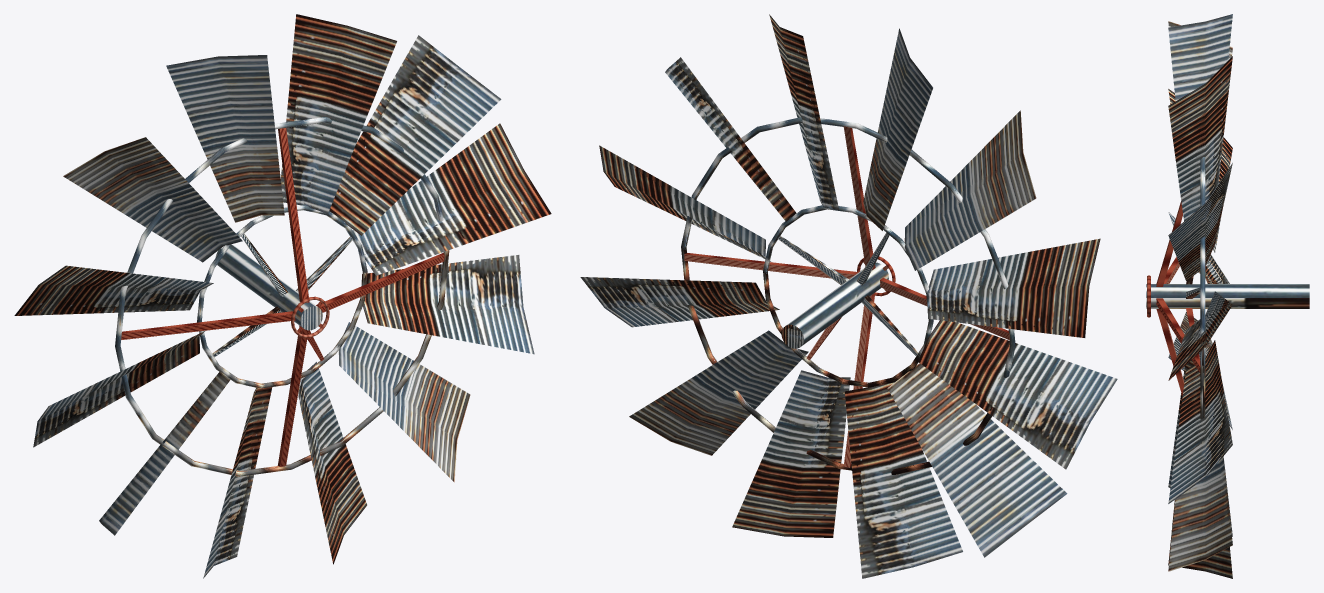
The model's file is WindmillHead.fbx.
The picture shows the model from 3 angles, left to right: view 1: azimuth 30°, elevation 25°; view 2: azimuth 150°, elevation 25°; view 3: azimuth 270°, elevation 25°; orthographic projection. The views are drawn at different scales.
Visible parts, largest first — view 1: pTorus5; view 2: pTorus5; view 3: pTorus5.
Boxes of the visible parts, bbox=[...] form: pTorus5: bbox=[14, 14, 551, 578]; pTorus5: bbox=[580, 14, 1117, 578]; pTorus5: bbox=[1146, 14, 1309, 578].
Bounding box in the file's own units: 512 × 512 × 149.
Materials: 2 (2 with a texture image).
